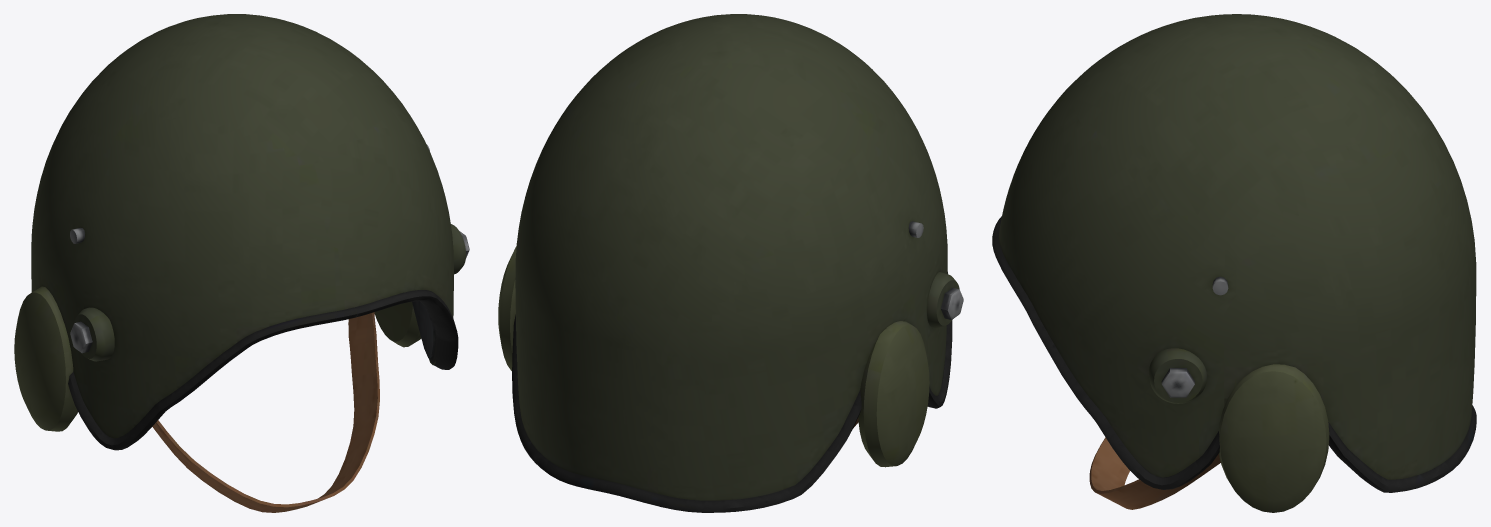
File: helmet_3.glb
3 views of the same model, side by side, from view 1: azimuth 30°, elevation 25°; view 2: azimuth 150°, elevation 25°; view 3: azimuth 270°, elevation 25° (orthographic). The views are drawn at different scales.
Visible parts, largest first — view 1: body; view 2: body; view 3: body.
Part boxes in pixels (left/top/right/bottom): body: left=14, top=14, right=469, bottom=512; body: left=498, top=14, right=963, bottom=512; body: left=992, top=14, right=1476, bottom=512.
Size of the model in its own units: 0.274 by 0.2945 by 0.2787.
Materials: 1 (1 with a texture image).
